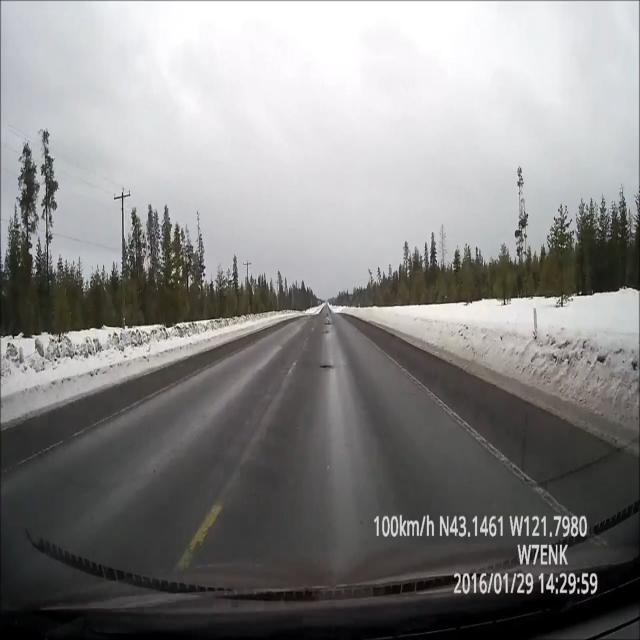pothole: (316, 310, 338, 340)
